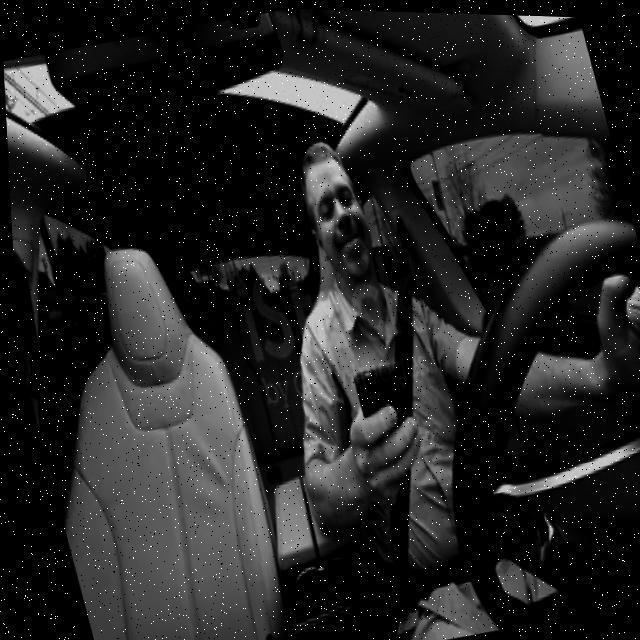PhoneCall: (346, 361, 423, 489)
